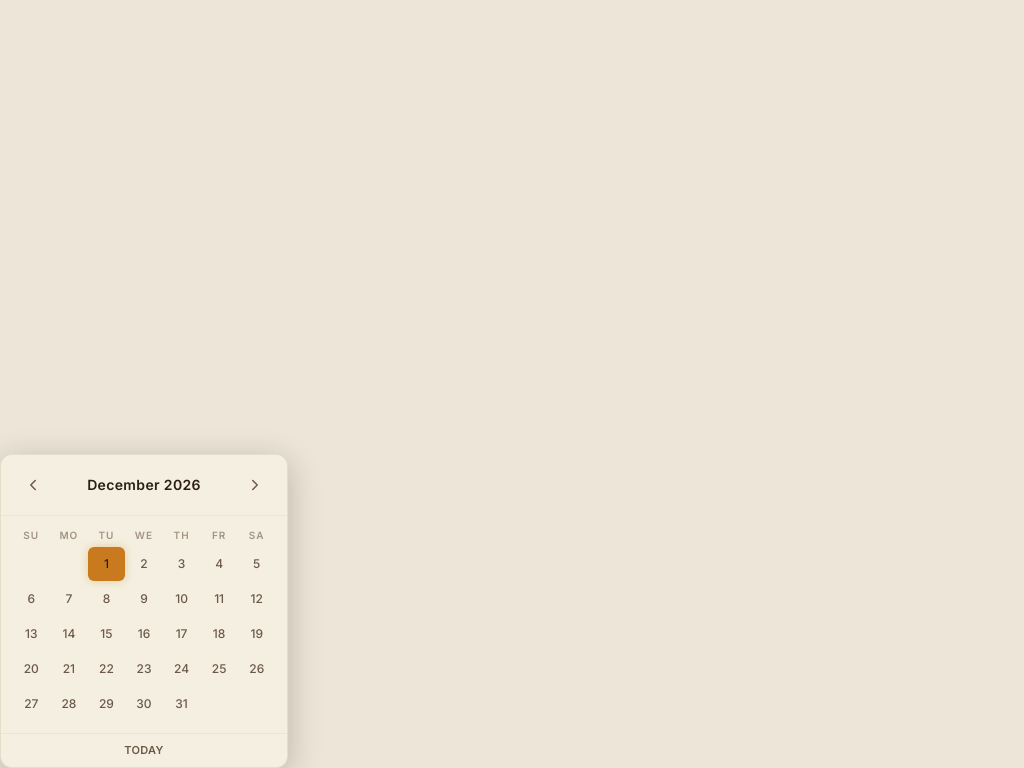
Test: CalendarPopup › wraps correctly from December to January when navigating forward
The image size is (1024, 768).
(page scrolled)
Step 1. Click the button named "Next month" → (255, 485), box [235,465,275,505]
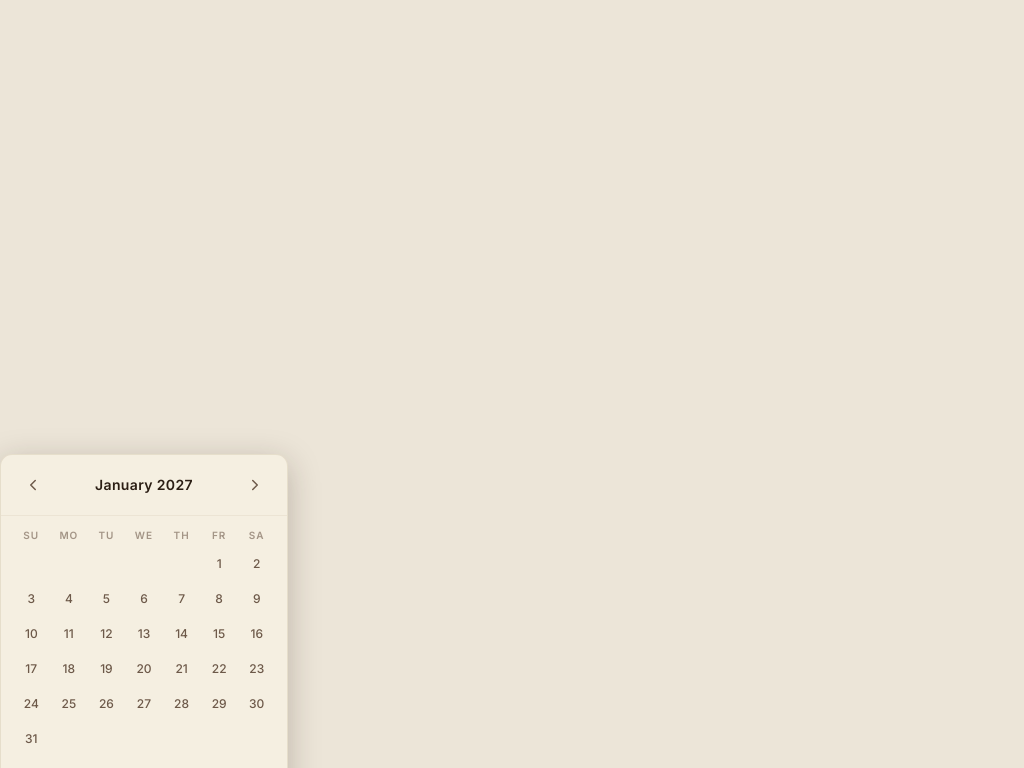
Expected: the text "January 2027" is shown, [95,475,193,495]
